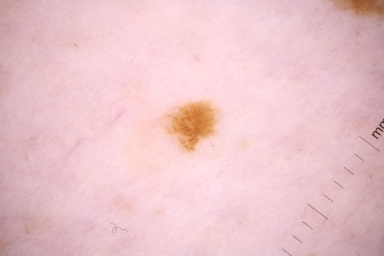nevus: (168, 101, 219, 150)
